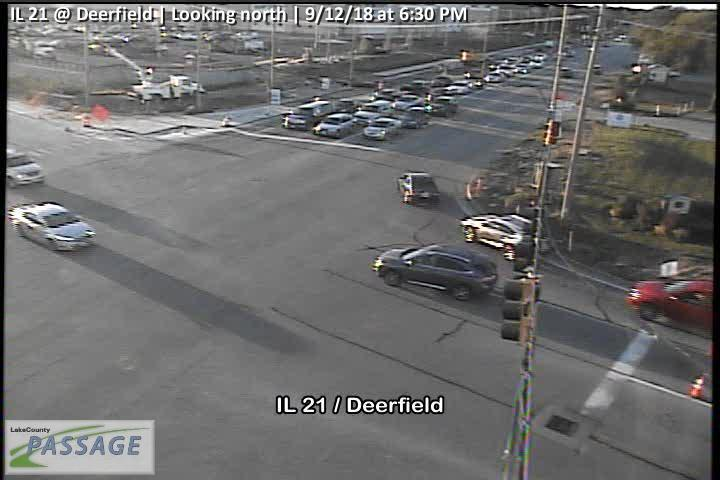SUV: (373, 242, 498, 302), (462, 212, 534, 257)
Sedan: (627, 276, 713, 336), (10, 201, 98, 252), (6, 149, 46, 190), (399, 172, 439, 206), (313, 112, 353, 136), (365, 116, 403, 140)
